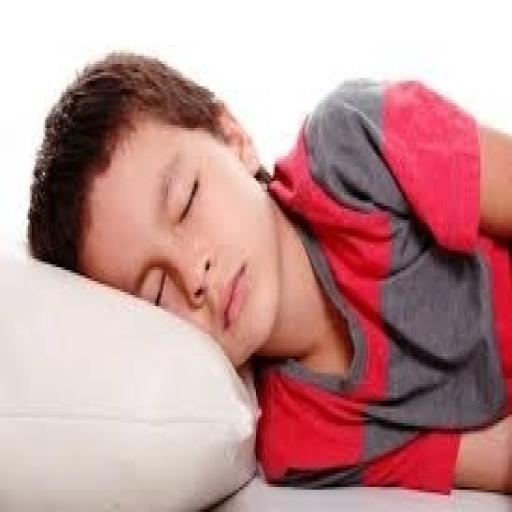sleeping: (24, 47, 510, 501)
